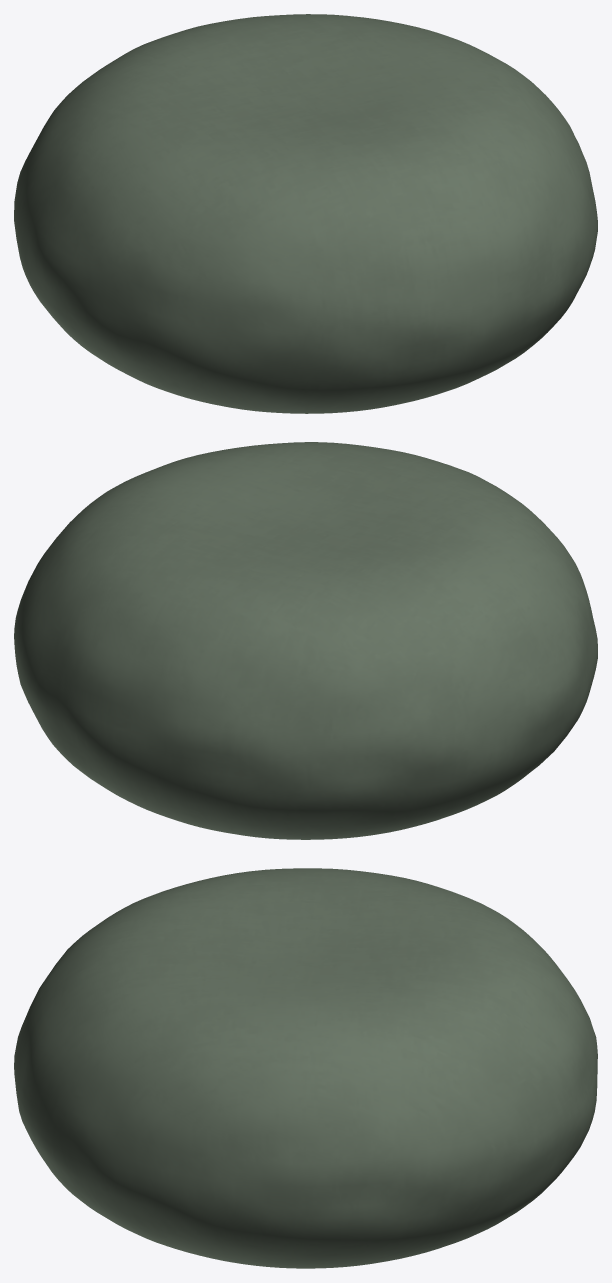
File: classic-olive.glb
The picture shows the model from 3 angles, top to bottom: view 1: azimuth 30°, elevation 25°; view 2: azimuth 150°, elevation 25°; view 3: azimuth 270°, elevation 25°; orthographic projection.
Parts seen in each view (by area): view 1: fabric_primary; view 2: fabric_primary; view 3: fabric_primary.
Boxes of the visible parts, <box> form: fabric_primary: <box>14,14,597,413</box>; fabric_primary: <box>14,442,597,839</box>; fabric_primary: <box>14,868,597,1268</box>.
Size of the model in its own units: 0.9615 by 0.4984 by 0.9572.
Materials: 1 (1 with a texture image).
